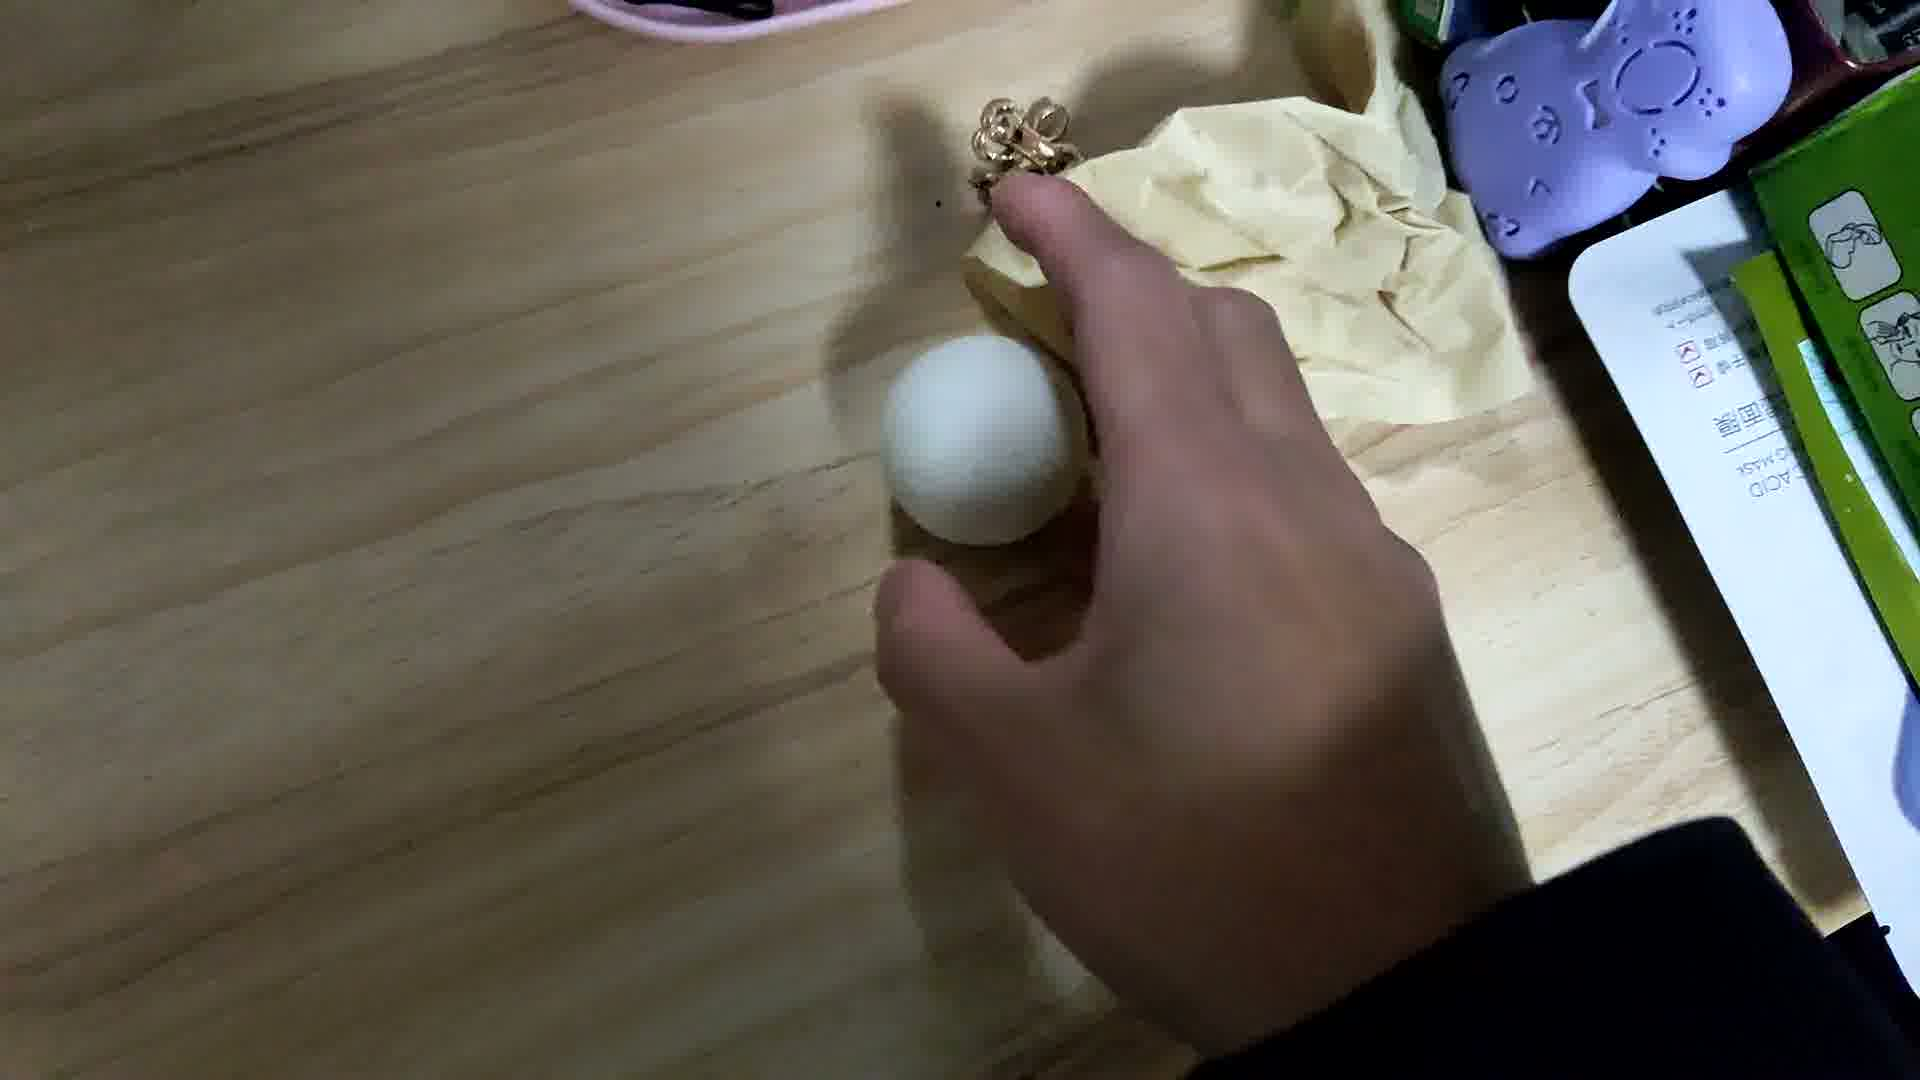Ball: (884, 332, 1088, 549)
